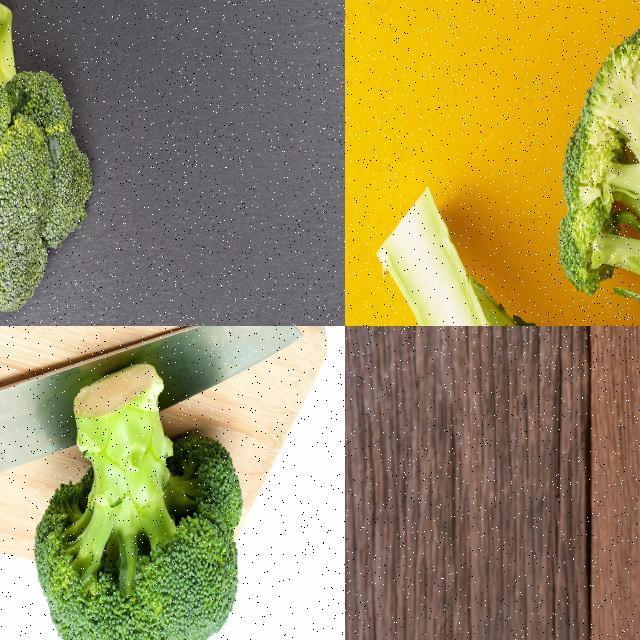broccoli: (33, 354, 253, 639), (372, 179, 640, 325), (0, 0, 96, 324), (553, 0, 639, 325)
